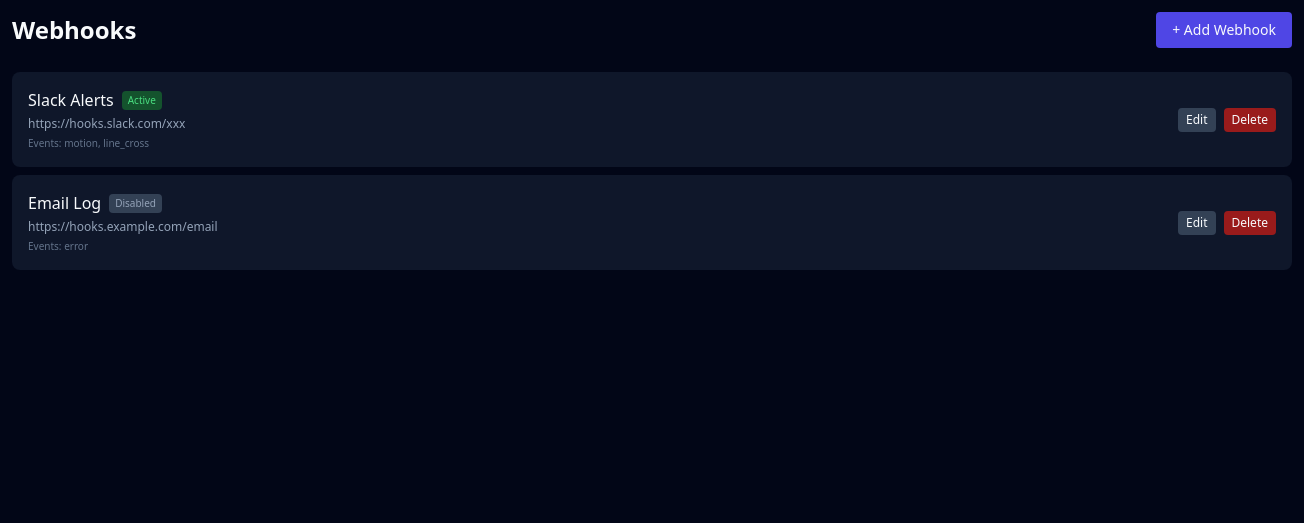
it: WebhooksPage › opens create form when clicking + Add Webhook
This screenshot has width=1304, height=523.
What coordinates should you click on to do the following:
click the button "+ Add Webhook"
I would click on:
 (1224, 30)
Its box is [1156,12,1292,48].
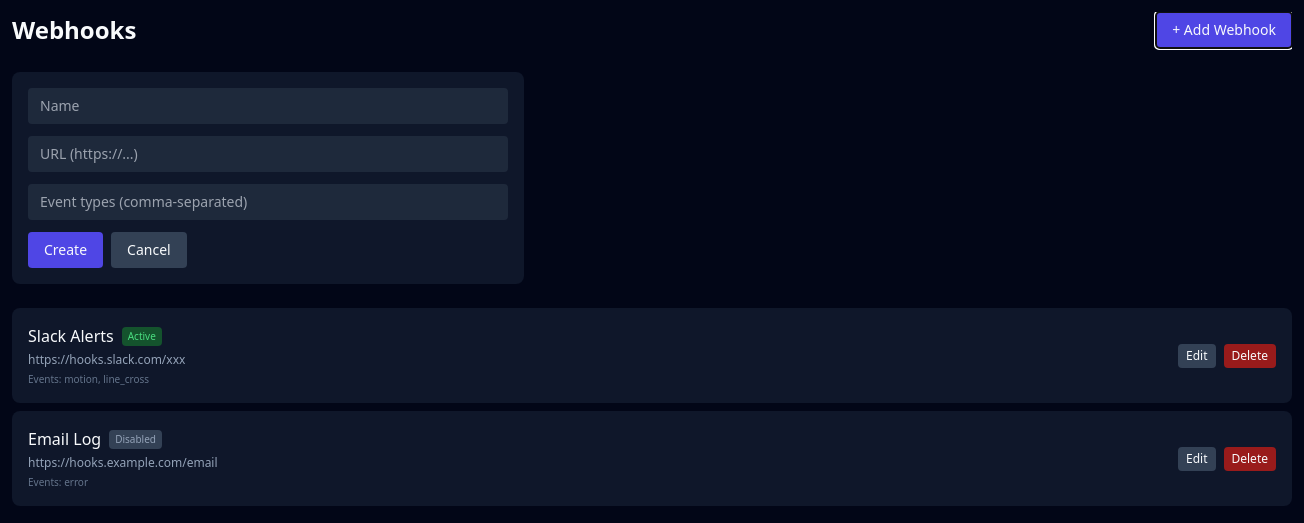
Expected: the field with placeholder "Name" is shown, [28,88,508,124]
Expected: the field with placeholder "URL (https://...)" is shown, [28,136,508,172]
Expected: the field with placeholder "Event types (comma-separated)" is shown, [28,184,508,220]
